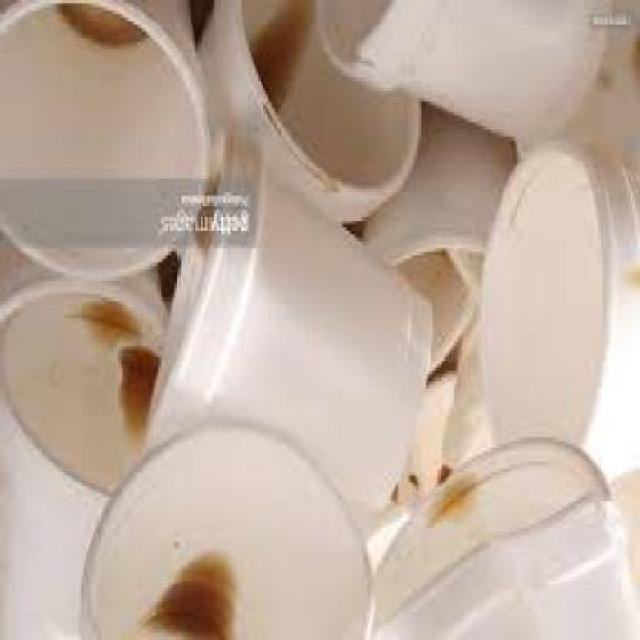PAPER: (152, 132, 438, 538), (78, 434, 377, 638), (2, 3, 215, 283), (483, 146, 639, 474), (200, 3, 423, 228), (378, 440, 614, 638), (319, 4, 619, 147), (1, 280, 168, 500)
